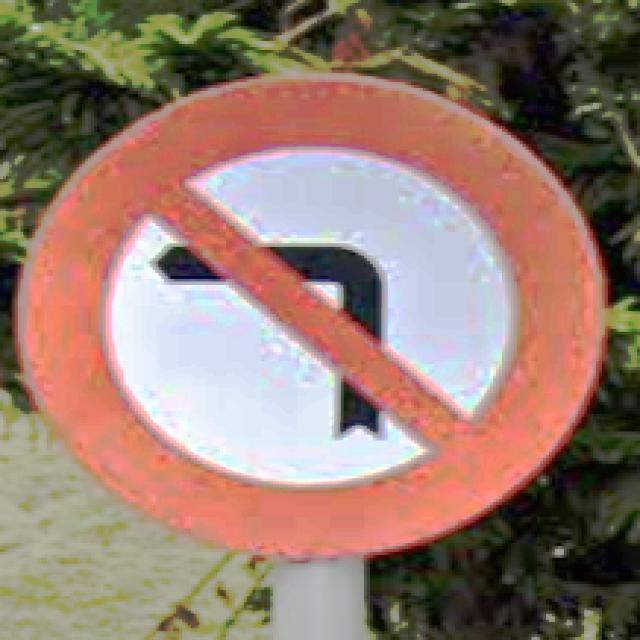noturnleft: (15, 73, 611, 567)
